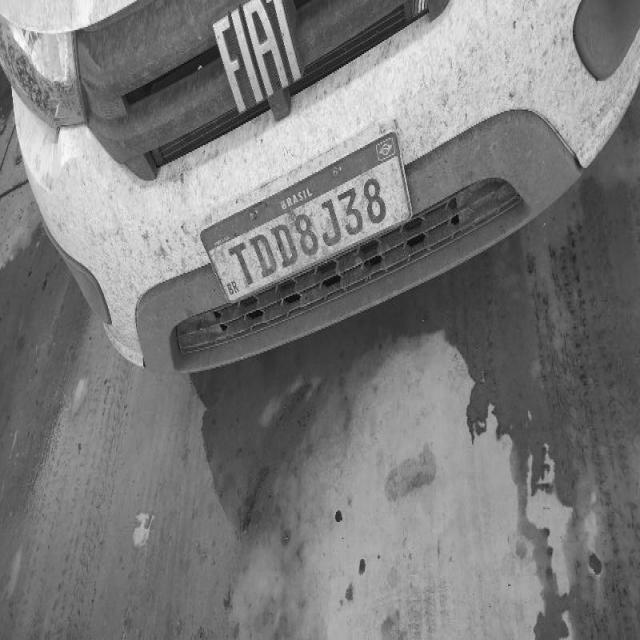placa_mercosul: (202, 134, 410, 299)
